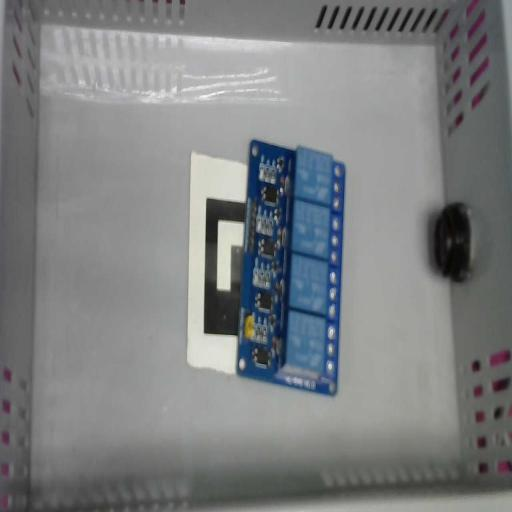relay_module: (236, 139, 346, 397)
